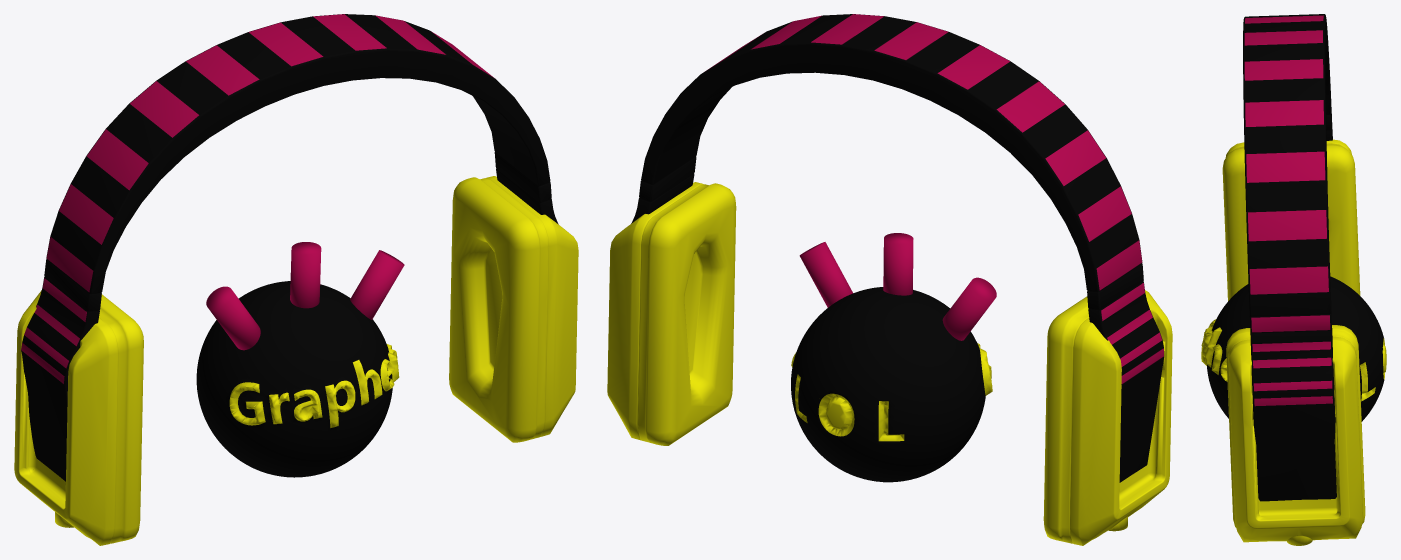
Rendered from Sphere Phones.fbx.
3 views of the same model, side by side, from view 1: azimuth 30°, elevation 25°; view 2: azimuth 150°, elevation 25°; view 3: azimuth 270°, elevation 25° (orthographic). The views are drawn at different scales.
Visible parts, largest first — view 1: Head, Sphere, Left, Right, Horns; view 2: Head, Sphere, Left, Right, Horns; view 3: Head, Left, Right, Sphere.
Boxes of the visible parts, x1=… form: Head: x1=21, y1=14, x2=558, y2=481; Sphere: x1=196, y1=281, x2=399, y2=477; Left: x1=449, y1=176, x2=578, y2=442; Right: x1=14, y1=290, x2=143, y2=545; Horns: x1=206, y1=242, x2=404, y2=350; Head: x1=631, y1=14, x2=1164, y2=482; Sphere: x1=791, y1=287, x2=992, y2=482; Left: x1=607, y1=182, x2=736, y2=445; Right: x1=1043, y1=290, x2=1172, y2=545; Horns: x1=799, y1=233, x2=996, y2=340; Head: x1=1243, y1=14, x2=1336, y2=501; Left: x1=1226, y1=325, x2=1365, y2=545; Right: x1=1222, y1=139, x2=1360, y2=300; Sphere: x1=1201, y1=276, x2=1386, y2=421.
Size of the model in its own units: 1705 by 1395 by 588.
